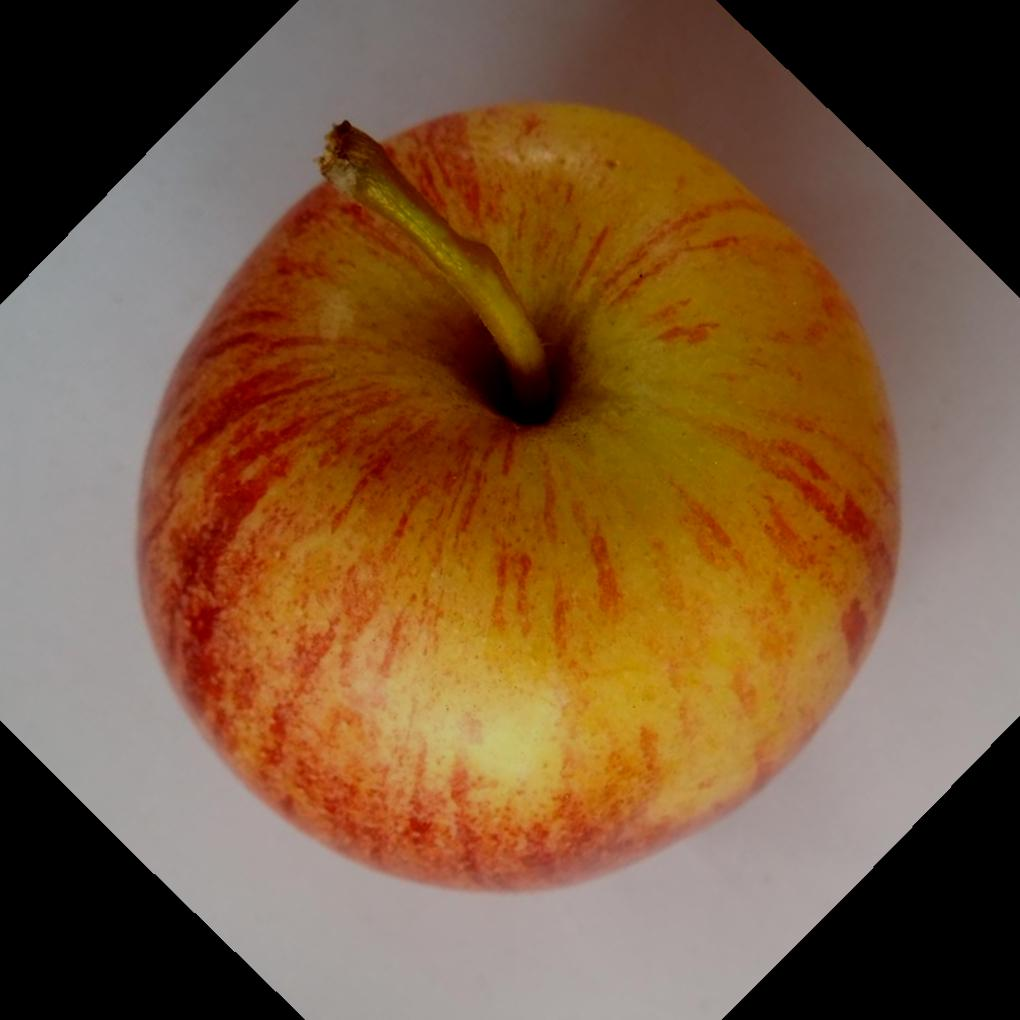FreshGuava: (131, 100, 902, 896)
